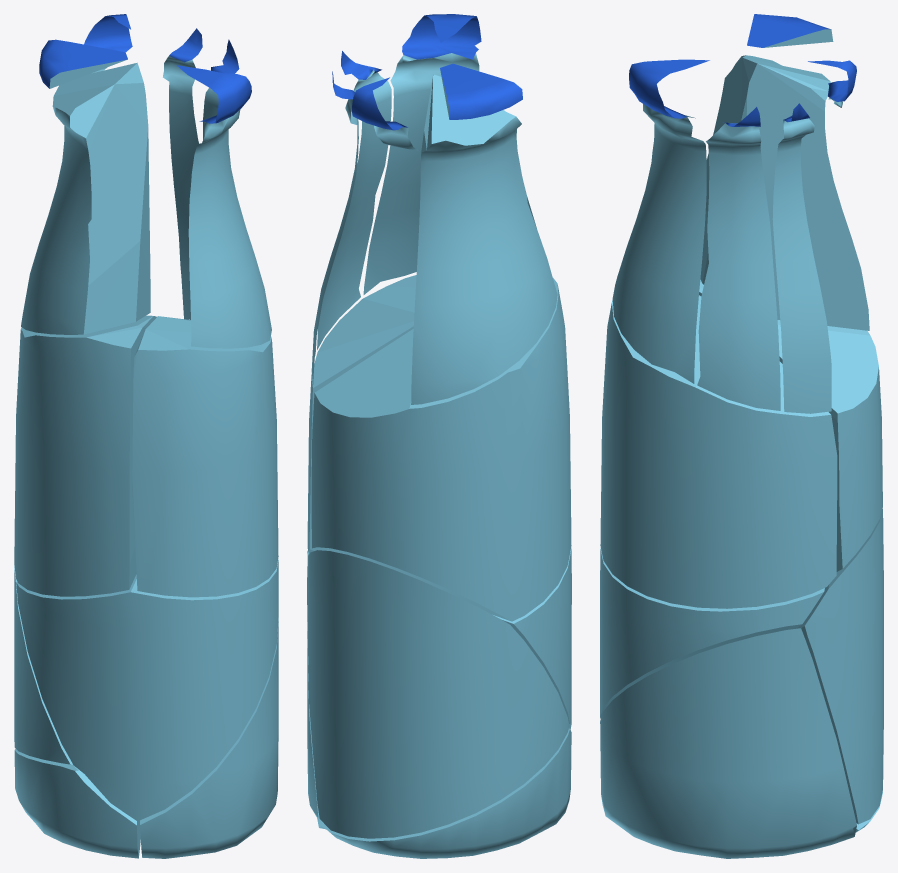
File: Broken bottle.fbx
3 views of the same model, side by side, from view 1: azimuth 30°, elevation 25°; view 2: azimuth 150°, elevation 25°; view 3: azimuth 270°, elevation 25° (orthographic).
Visible parts, largest first — view 1: subrays logo copy_cell.013, subrays logo copy_cell.014, subrays logo copy_cell.003, subrays logo copy_cell.008, subrays logo copy_cell.005, subrays logo copy_cell.002, subrays logo copy_cell.001, subrays logo copy_cell.019, subrays logo copy_cell.011, subrays logo copy_cell, subrays logo copy_cell.016, subrays logo copy_cell.017; view 2: subrays logo copy_cell.003, subrays logo copy_cell.011, subrays logo copy_cell.008, subrays logo copy_cell.005, subrays logo copy_cell.001, subrays logo copy_cell.017, subrays logo copy_cell.014, subrays logo copy_cell.013, subrays logo copy_cell, subrays logo copy_cell.016, subrays logo copy_cell.019, subrays logo copy_cell.002; view 3: subrays logo copy_cell.014, subrays logo copy_cell.002, subrays logo copy_cell.005, subrays logo copy_cell.017, subrays logo copy_cell.008, subrays logo copy_cell.011, subrays logo copy_cell.013, subrays logo copy_cell.019, subrays logo copy_cell.003, subrays logo copy_cell, subrays logo copy_cell.016.
Boxes of the visible parts, bbox=[...] form: subrays logo copy_cell.013: bbox=[16, 559, 278, 821]; subrays logo copy_cell.014: bbox=[132, 316, 278, 597]; subrays logo copy_cell.003: bbox=[14, 315, 156, 596]; subrays logo copy_cell.008: bbox=[21, 62, 150, 334]; subrays logo copy_cell.005: bbox=[176, 65, 271, 348]; subrays logo copy_cell.002: bbox=[140, 618, 278, 858]; subrays logo copy_cell.001: bbox=[14, 748, 140, 858]; subrays logo copy_cell.019: bbox=[163, 28, 202, 319]; subrays logo copy_cell.011: bbox=[14, 565, 72, 764]; subrays logo copy_cell: bbox=[39, 39, 127, 88]; subrays logo copy_cell.016: bbox=[84, 14, 132, 73]; subrays logo copy_cell.017: bbox=[203, 39, 239, 139]; subrays logo copy_cell.003: bbox=[311, 278, 571, 621]; subrays logo copy_cell.011: bbox=[307, 550, 569, 838]; subrays logo copy_cell.008: bbox=[411, 74, 557, 404]; subrays logo copy_cell.005: bbox=[363, 14, 481, 294]; subrays logo copy_cell.001: bbox=[321, 728, 571, 858]; subrays logo copy_cell.017: bbox=[317, 51, 391, 349]; subrays logo copy_cell.014: bbox=[307, 275, 416, 552]; subrays logo copy_cell.013: bbox=[307, 548, 571, 729]; subrays logo copy_cell: bbox=[440, 63, 522, 119]; subrays logo copy_cell.016: bbox=[351, 77, 417, 149]; subrays logo copy_cell.019: bbox=[311, 71, 358, 384]; subrays logo copy_cell.002: bbox=[307, 622, 325, 829]; subrays logo copy_cell.014: bbox=[600, 295, 837, 608]; subrays logo copy_cell.002: bbox=[600, 628, 856, 858]; subrays logo copy_cell.005: bbox=[612, 59, 709, 383]; subrays logo copy_cell.017: bbox=[697, 107, 780, 410]; subrays logo copy_cell.008: bbox=[700, 55, 869, 330]; subrays logo copy_cell.011: bbox=[796, 509, 883, 824]; subrays logo copy_cell.013: bbox=[600, 548, 824, 718]; subrays logo copy_cell.019: bbox=[772, 103, 831, 413]; subrays logo copy_cell.003: bbox=[699, 279, 882, 571]; subrays logo copy_cell: bbox=[747, 14, 833, 47]; subrays logo copy_cell.016: bbox=[808, 60, 856, 107].
Size of the model in its own units: 19.3 by 56.6 by 17.69.
